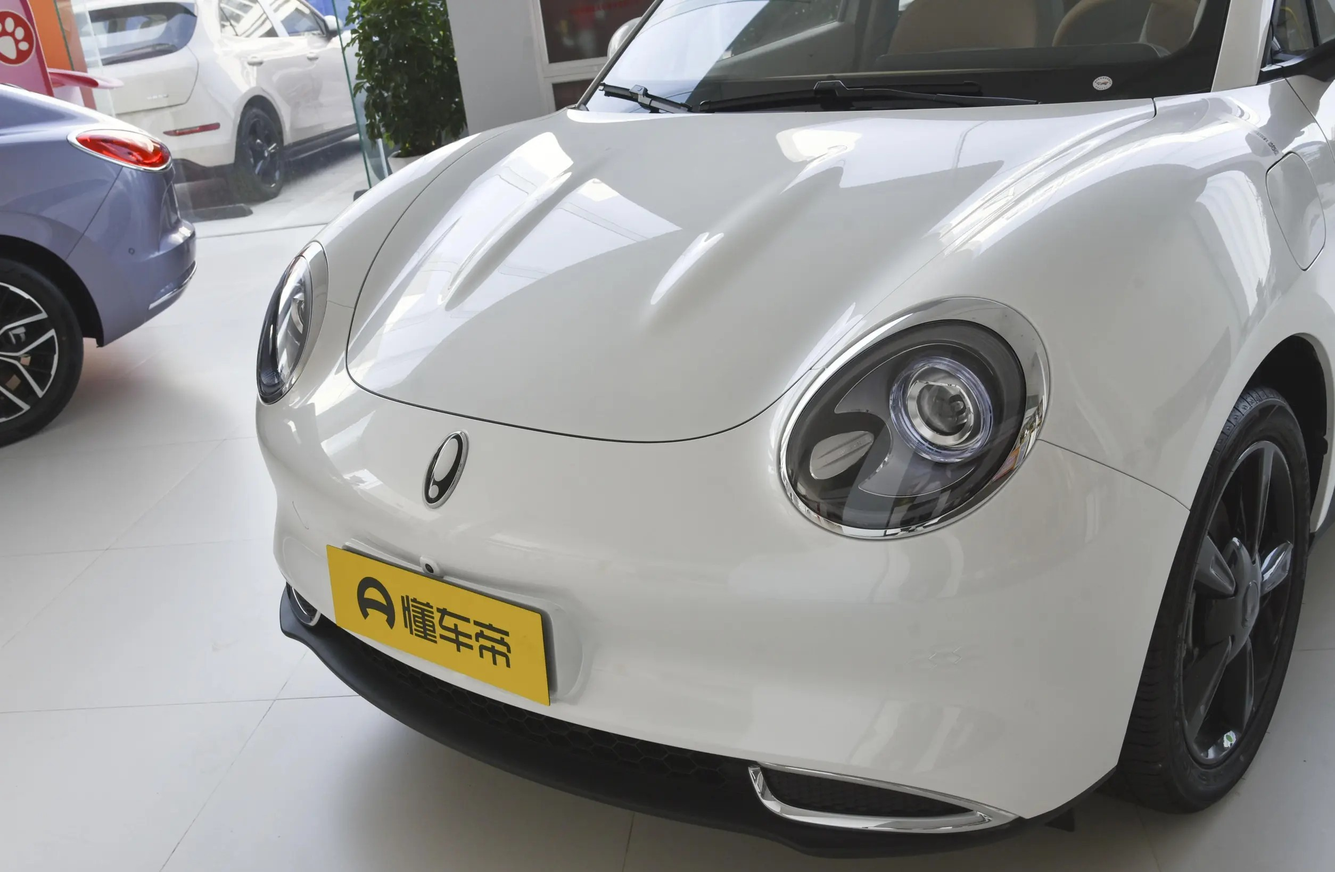ORA: (423, 431, 467, 507)
